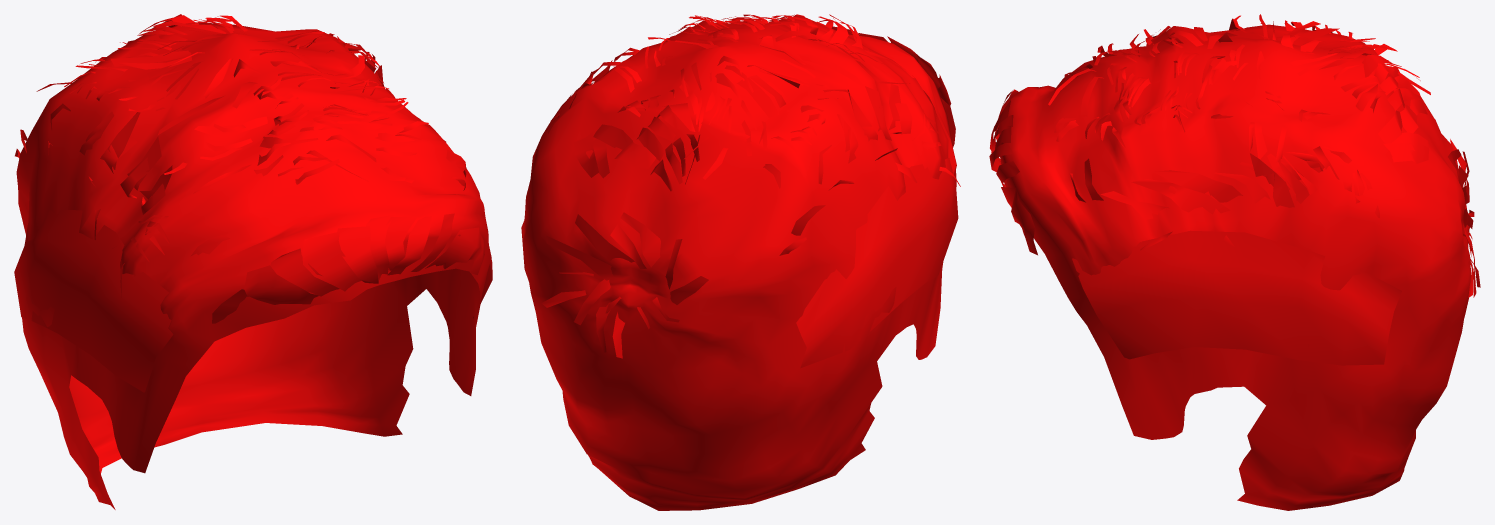
Rendered from short01_M.glb.
The picture shows the model from 3 angles, left to right: view 1: azimuth 30°, elevation 25°; view 2: azimuth 150°, elevation 25°; view 3: azimuth 270°, elevation 25°; orthographic projection. The views are drawn at different scales.
Bounding box in the file's own units: 0.1739 × 0.205 × 0.2124.
1 material, 1 textured.
